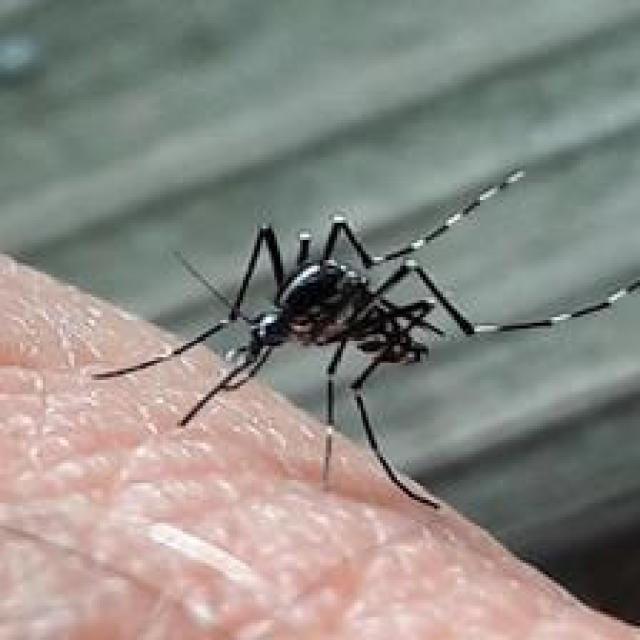Aedes albopictus: (88, 164, 640, 512)
